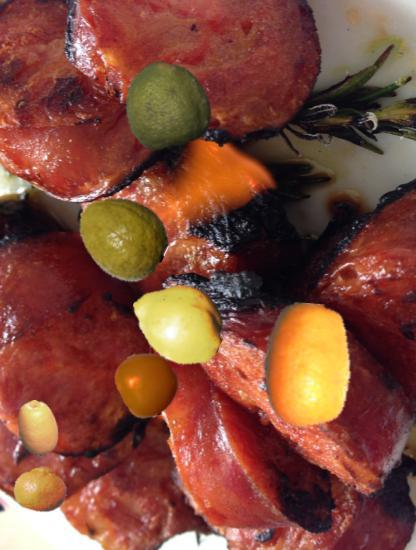Guava: (74, 191, 168, 285)
Kumquats: (245, 303, 371, 429), (10, 400, 66, 456)
Limes: (121, 59, 215, 153)
Mandarine: (14, 462, 69, 517)
Quince: (130, 274, 226, 370)
Tomato: (115, 351, 181, 417)
